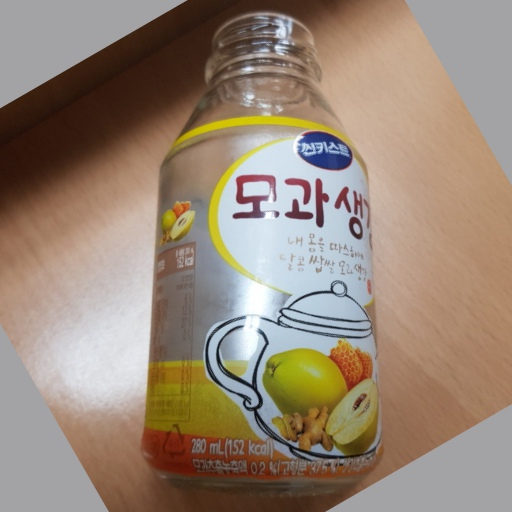Glass_4: (146, 10, 385, 496)
